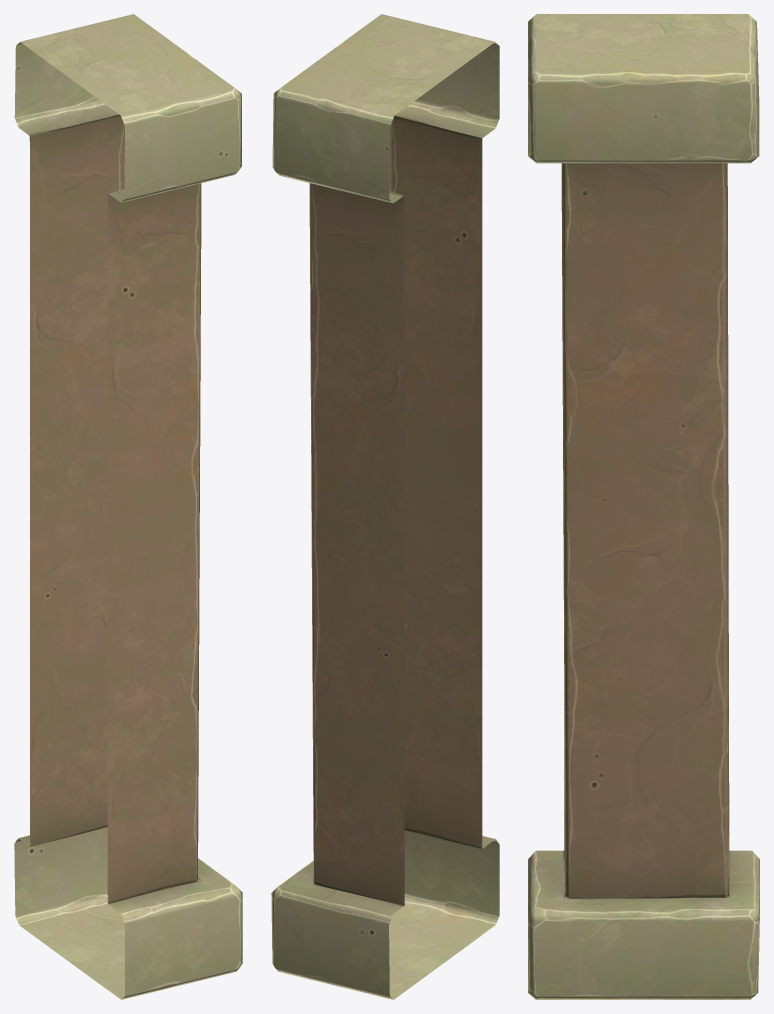
File: SM_Wall_Pillar_Tall.fbx
3 renders of one model, left to right at view 1: azimuth 30°, elevation 25°; view 2: azimuth 150°, elevation 25°; view 3: azimuth 270°, elevation 25°, orthographic. The views are drawn at different scales.
Parts seen in each view (by area): view 1: SM_Wall_Pillar_Tall_LOD0; view 2: SM_Wall_Pillar_Tall_LOD0; view 3: SM_Wall_Pillar_Tall_LOD0.
Part boxes in pixels (bbox=[...]): SM_Wall_Pillar_Tall_LOD0: bbox=[14, 14, 242, 999]; SM_Wall_Pillar_Tall_LOD0: bbox=[271, 14, 499, 999]; SM_Wall_Pillar_Tall_LOD0: bbox=[528, 14, 759, 999].
Bounding box in the file's own units: 32.32 × 51.01 × 225.
Materials: 1 (1 with a texture image).
